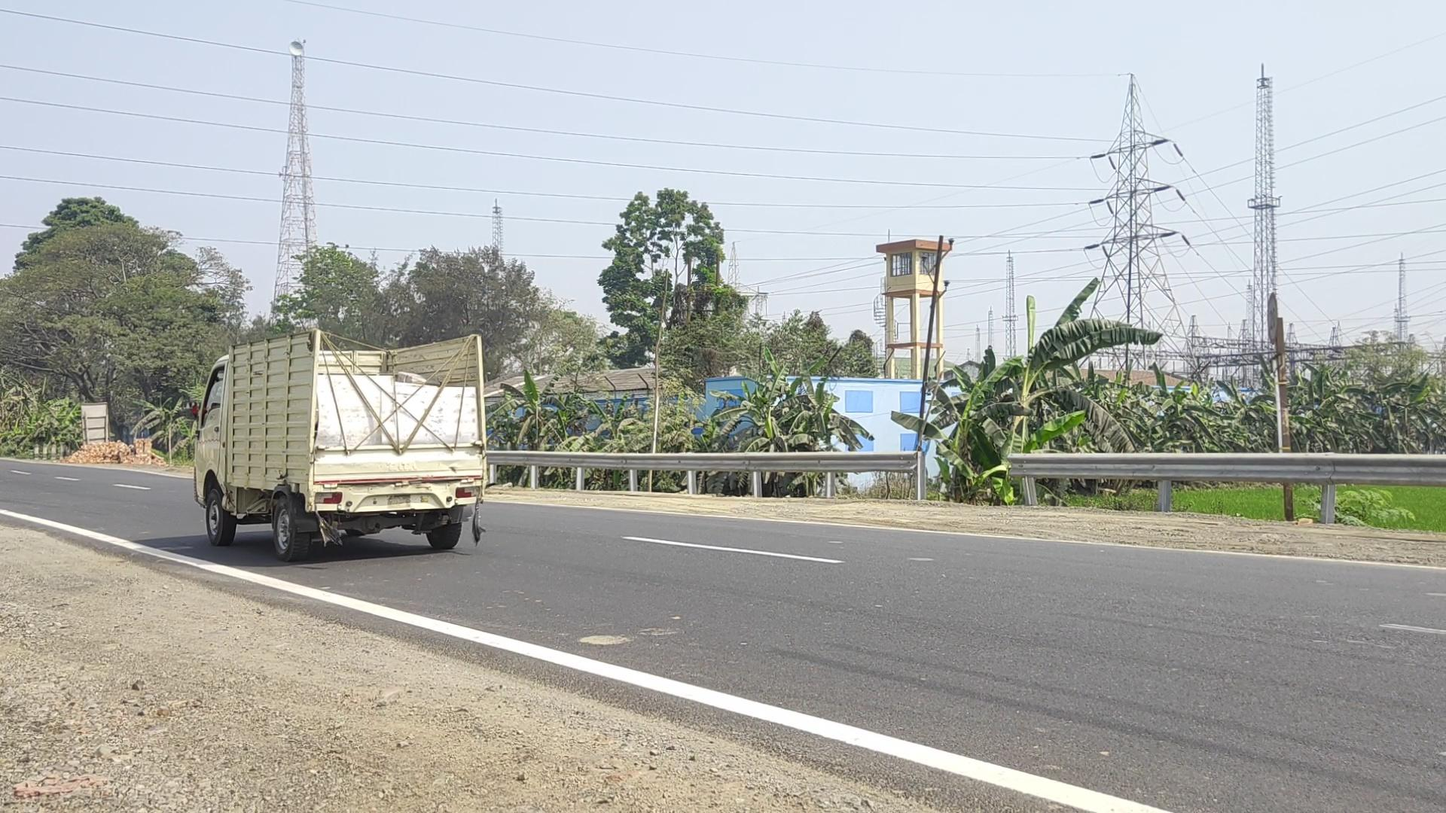van: (186, 328, 487, 562)
